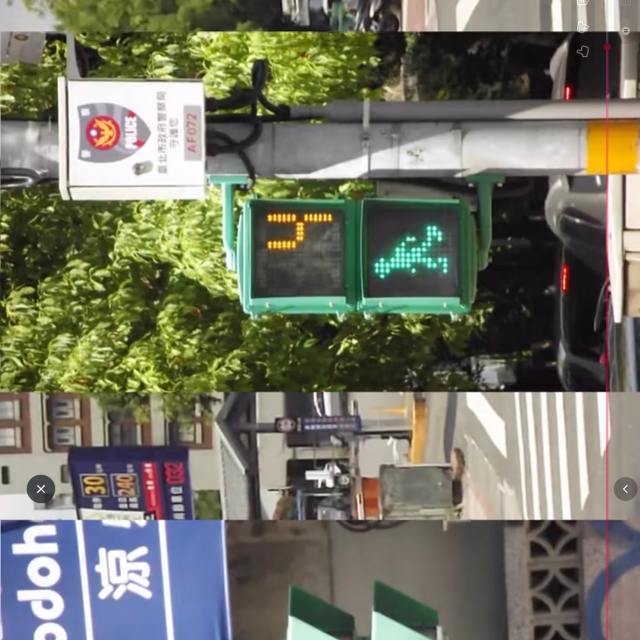green_light: (244, 201, 474, 306)
